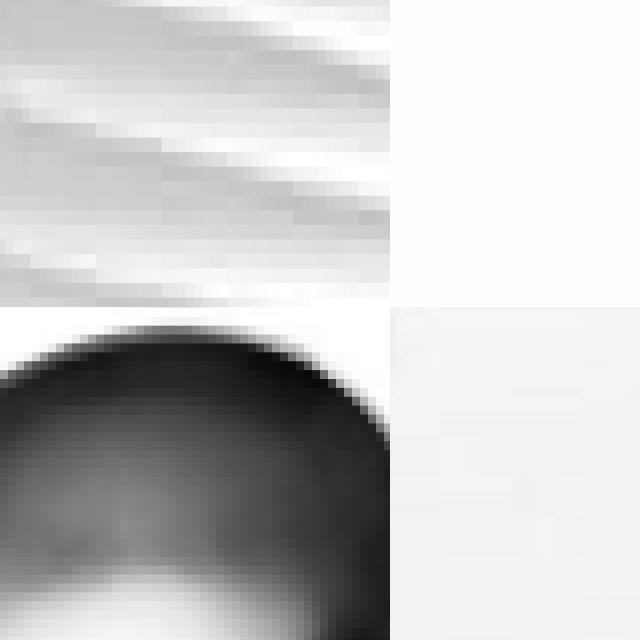forks: (0, 0, 390, 307)
spoons: (10, 307, 390, 640)
